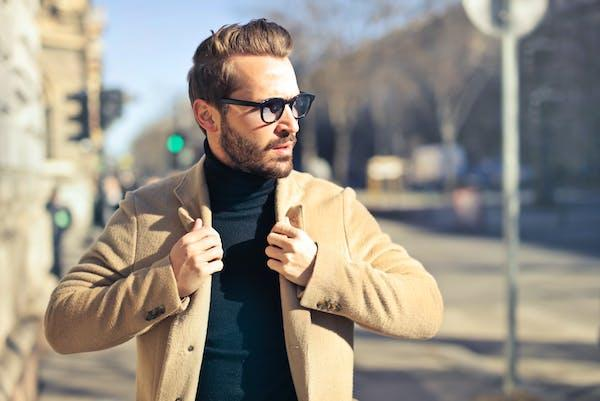eyeglasses: (252, 90, 319, 126)
